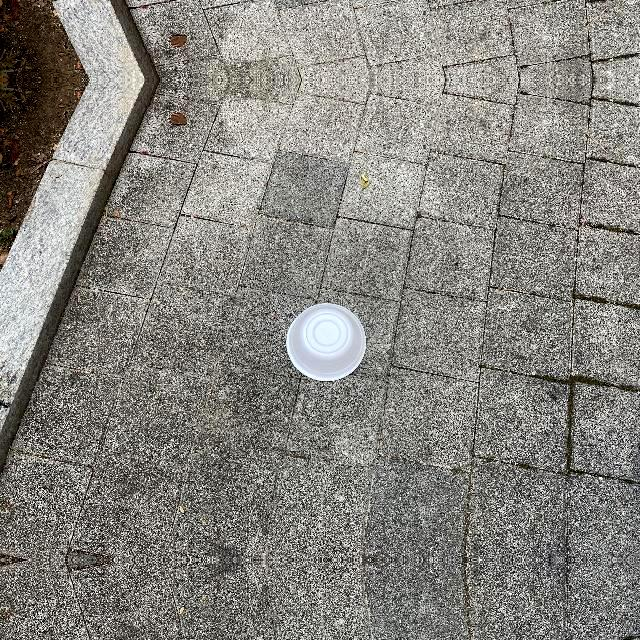Styrofoam: (287, 303, 366, 381), (288, 303, 367, 381)
